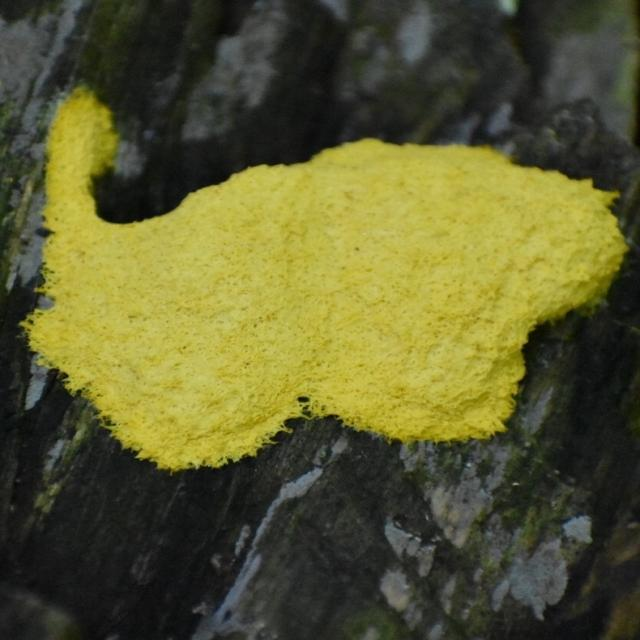Dog_vomit_slime_mold: (14, 61, 640, 490)
